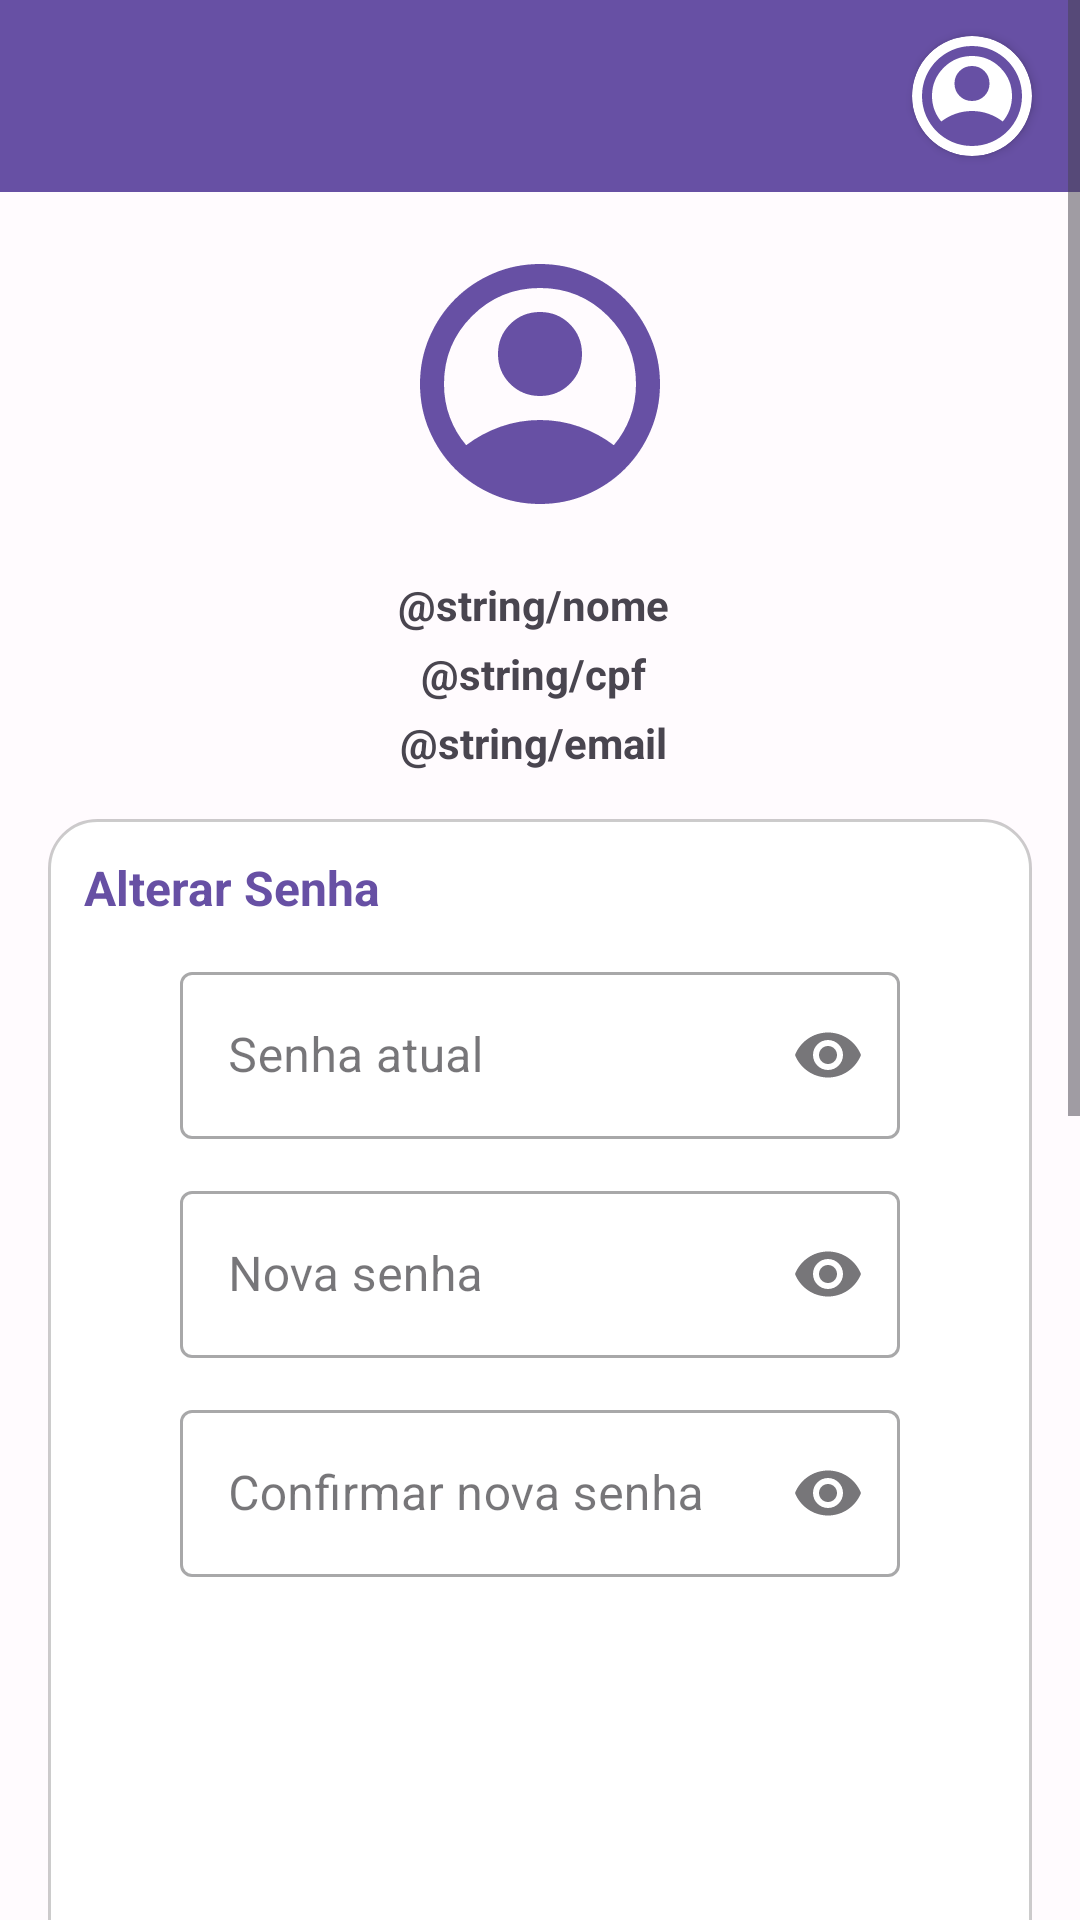

Point at icon controls on the screen. Image size 1080px x 1920px, points as [x,y].
Foto do perfil: [972,96], [540,384]
